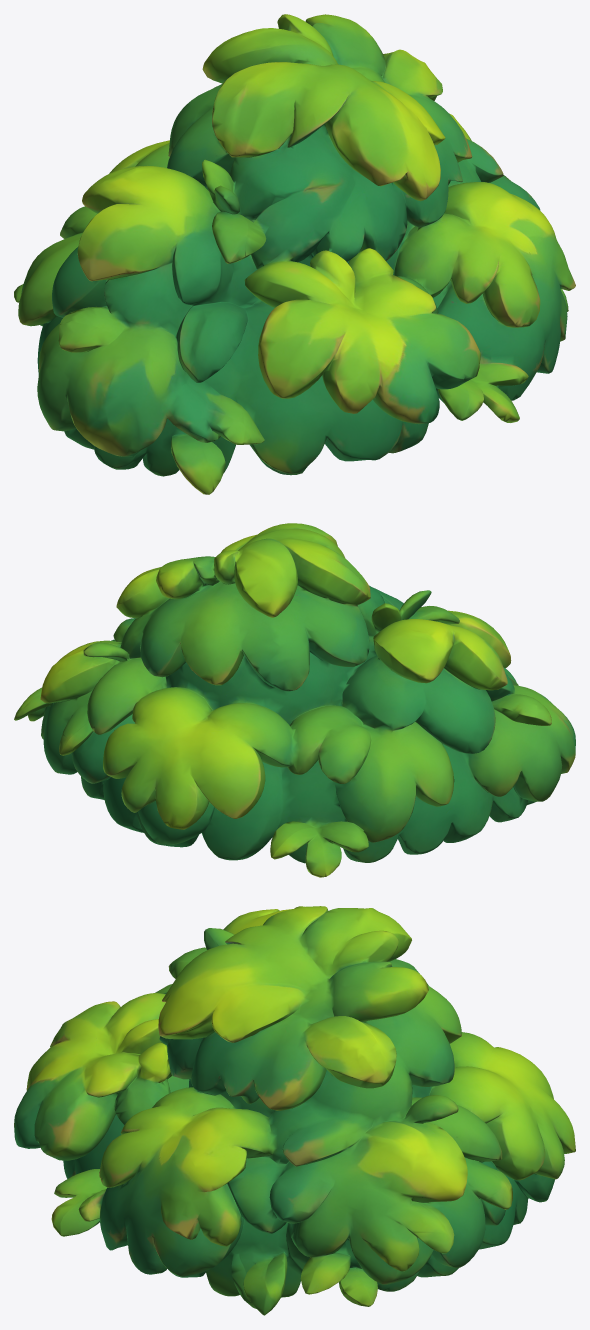
File: bush_large.glb
3 views of the same model, one above another, from view 1: azimuth 30°, elevation 25°; view 2: azimuth 150°, elevation 25°; view 3: azimuth 270°, elevation 25° (orthographic). The views are drawn at different scales.
Visible parts, largest first — view 1: tripo_node_1922fbe5-e231-412b-a616-e3fb4c1fc487; view 2: tripo_node_1922fbe5-e231-412b-a616-e3fb4c1fc487; view 3: tripo_node_1922fbe5-e231-412b-a616-e3fb4c1fc487.
Boxes of the visible parts, bbox=[...] form: tripo_node_1922fbe5-e231-412b-a616-e3fb4c1fc487: bbox=[14, 14, 575, 494]; tripo_node_1922fbe5-e231-412b-a616-e3fb4c1fc487: bbox=[14, 523, 575, 877]; tripo_node_1922fbe5-e231-412b-a616-e3fb4c1fc487: bbox=[14, 906, 575, 1315].
Size of the model in its own units: 0.9799 by 0.549 by 0.915.
Materials: 1 (1 with a texture image).
